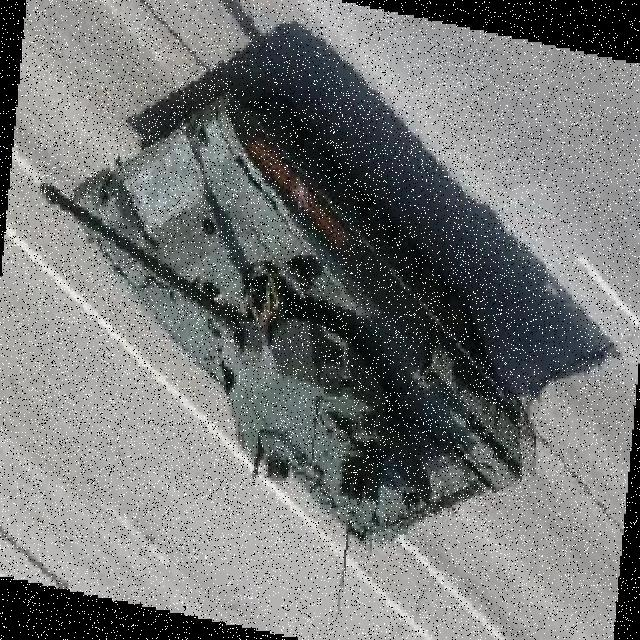MIL_MBT: (38, 81, 524, 547)
